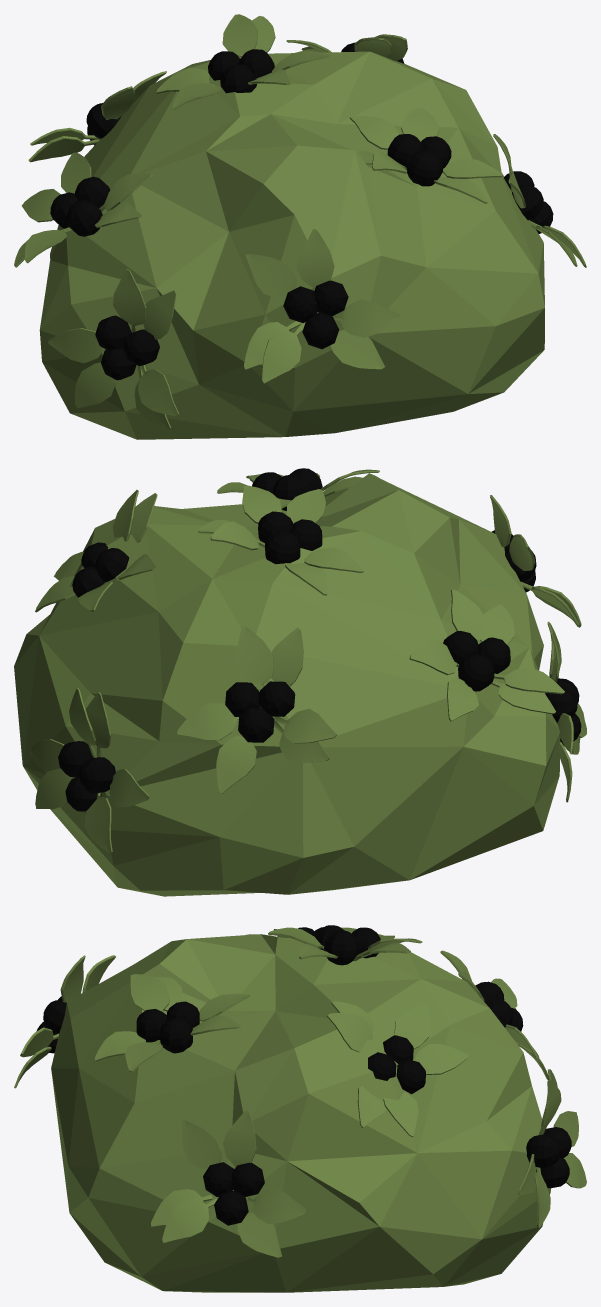
Rendered from NN_jetbead.fbx.
The picture shows the model from 3 angles, top to bottom: view 1: azimuth 30°, elevation 25°; view 2: azimuth 150°, elevation 25°; view 3: azimuth 270°, elevation 25°; orthographic projection. The views are drawn at different scales.
Visible parts, largest first — view 1: NN_jetbead; view 2: NN_jetbead; view 3: NN_jetbead.
Boxes of the visible parts, x1=… form: NN_jetbead: x1=14, y1=14, x2=586, y2=439; NN_jetbead: x1=14, y1=468, x2=586, y2=896; NN_jetbead: x1=14, y1=925, x2=586, y2=1292.
Bounding box in the file's own units: 3.8 × 2.36 × 3.85.
